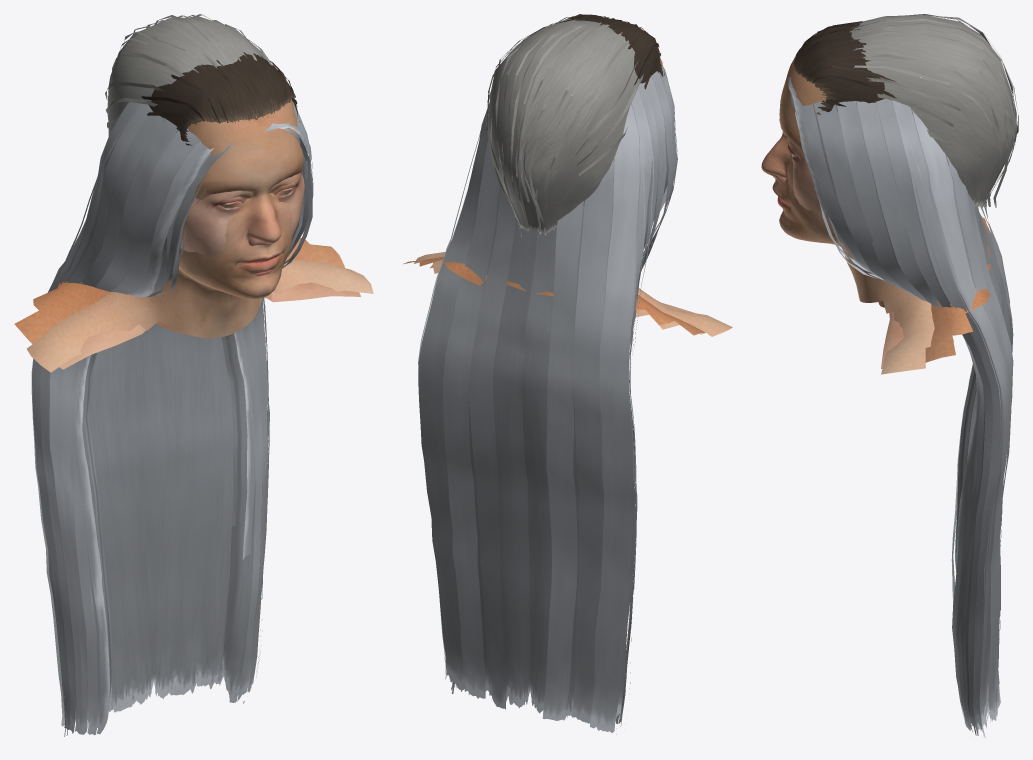
File: keeper-heads.glb
The picture shows the model from 3 angles, left to right: view 1: azimuth 30°, elevation 25°; view 2: azimuth 150°, elevation 25°; view 3: azimuth 270°, elevation 25°; orthographic projection. The views are drawn at different scales.
Visible parts, largest first — view 1: seer / fitted hair, divider / anatomical face, old / fitted hair, divider / fitted hair, seer / anatomical face, old / anatomical face; view 2: seer / fitted hair, old / fitted hair, divider / fitted hair, divider / anatomical face, old / anatomical face; view 3: seer / fitted hair, old / fitted hair, divider / anatomical face, divider / fitted hair, old / anatomical face, seer / anatomical face.
Part boxes in pixels (x1,y1,x2,y2): seer / fitted hair: (31,102,313,736); divider / anatomical face: (27,98,373,372); old / fitted hair: (105,14,272,135); divider / fitted hair: (141,52,300,145); seer / anatomical face: (59,172,361,369); old / anatomical face: (14,237,344,343); seer / fitted hair: (418,66,677,734); old / fitted hair: (486,19,643,236); divider / fitted hair: (555,14,664,89); divider / anatomical face: (414,57,732,336); old / anatomical face: (403,256,705,335); seer / fitted hair: (788,77,1013,738); old / fitted hair: (849,14,1018,207); divider / anatomical face: (761,57,954,374); divider / fitted hair: (794,21,896,115); old / anatomical face: (878,217,990,362); seer / anatomical face: (773,137,904,368).
Size of the model in its own units: 0.4466 by 0.9295 by 0.3154.
Materials: 7 (7 with a texture image).
